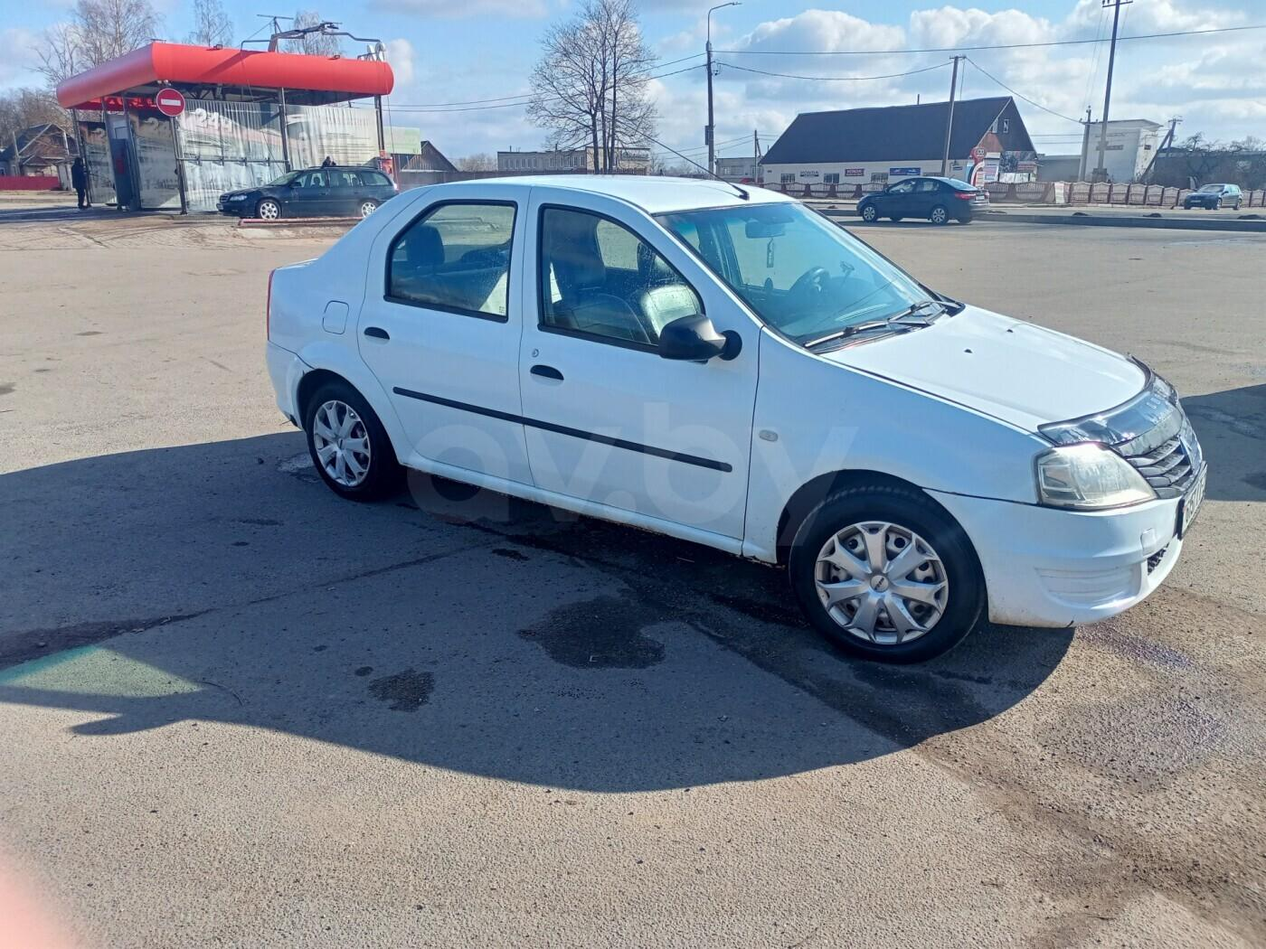Logan_2008-2015: (265, 163, 1204, 658)
